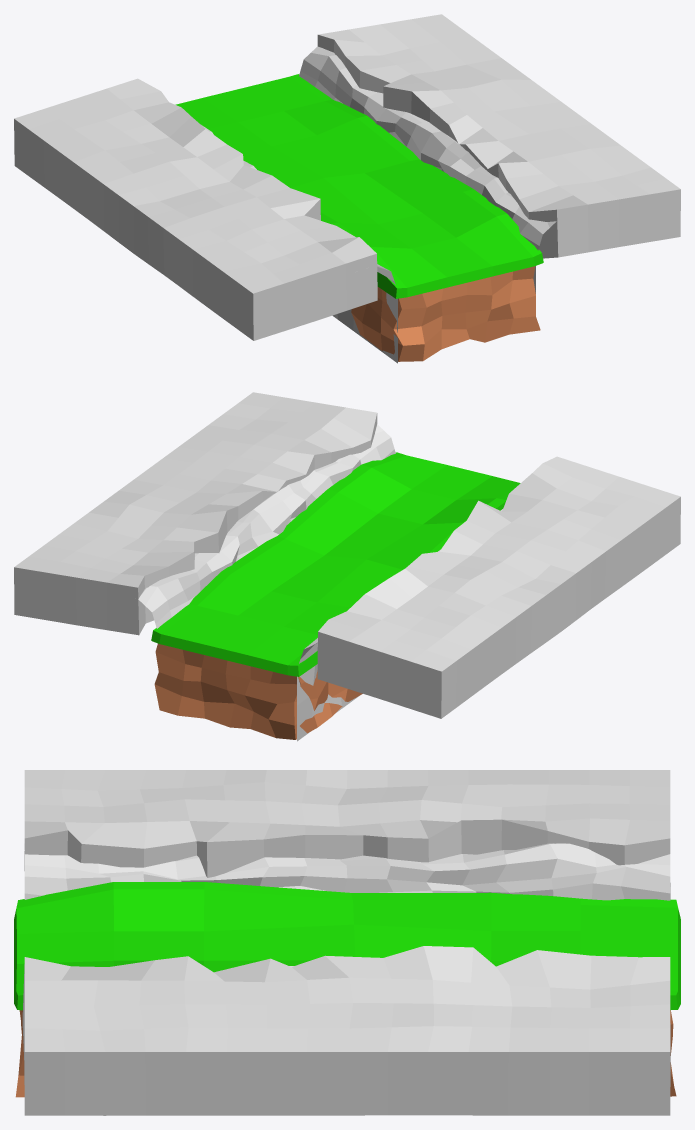
The model's file is The Endgame Levels Final2.fbx.
The picture shows the model from 3 angles, top to bottom: view 1: azimuth 30°, elevation 25°; view 2: azimuth 150°, elevation 25°; view 3: azimuth 270°, elevation 25°; orthographic projection. The views are drawn at different scales.
Visible parts, largest first — view 1: Plane.007, Plane.006, Plane.004, Plane.005; view 2: Plane.007, Plane.006, Plane.004, Plane.005; view 3: Plane.007, Plane.006, Plane.005, Plane.004.
Boxes of the visible parts, bbox=[...] form: Plane.007: bbox=[14, 14, 680, 340]; Plane.006: bbox=[175, 74, 543, 298]; Plane.004: bbox=[351, 266, 540, 361]; Plane.005: bbox=[201, 46, 556, 363]; Plane.007: bbox=[14, 392, 680, 718]; Plane.006: bbox=[151, 452, 520, 676]; Plane.004: bbox=[154, 643, 362, 739]; Plane.005: bbox=[138, 424, 502, 741]; Plane.007: bbox=[22, 770, 670, 1115]; Plane.006: bbox=[14, 882, 680, 1010]; Plane.005: bbox=[24, 843, 670, 967]; Plane.004: bbox=[15, 1010, 676, 1097].
Size of the model in its own units: 620 by 181 by 620.
